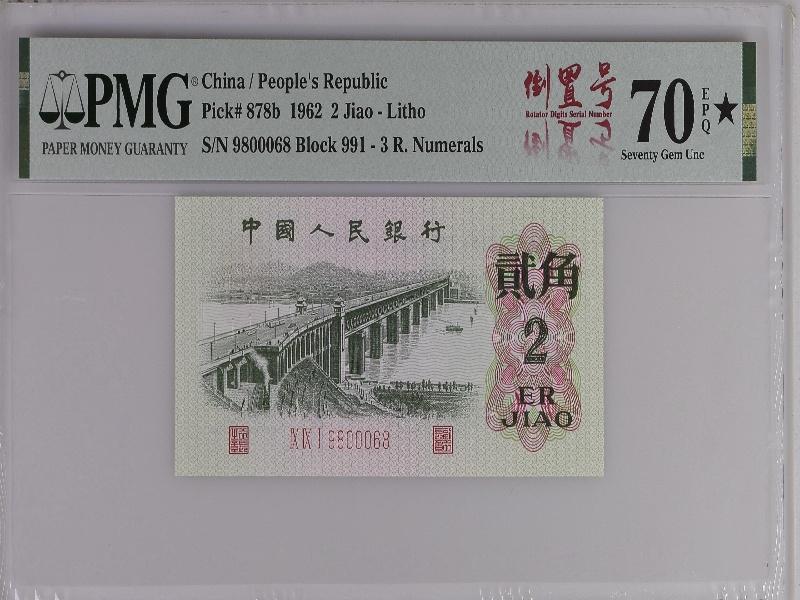papernote: (173, 195, 606, 479)
